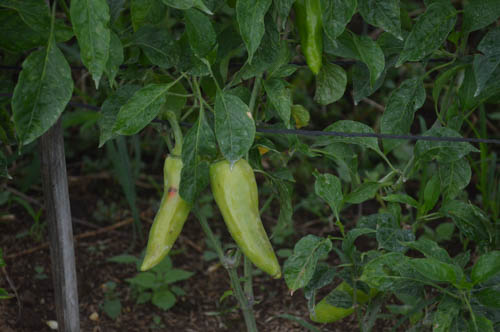ChiliPepper: (214, 160, 281, 281), (139, 153, 197, 270)
